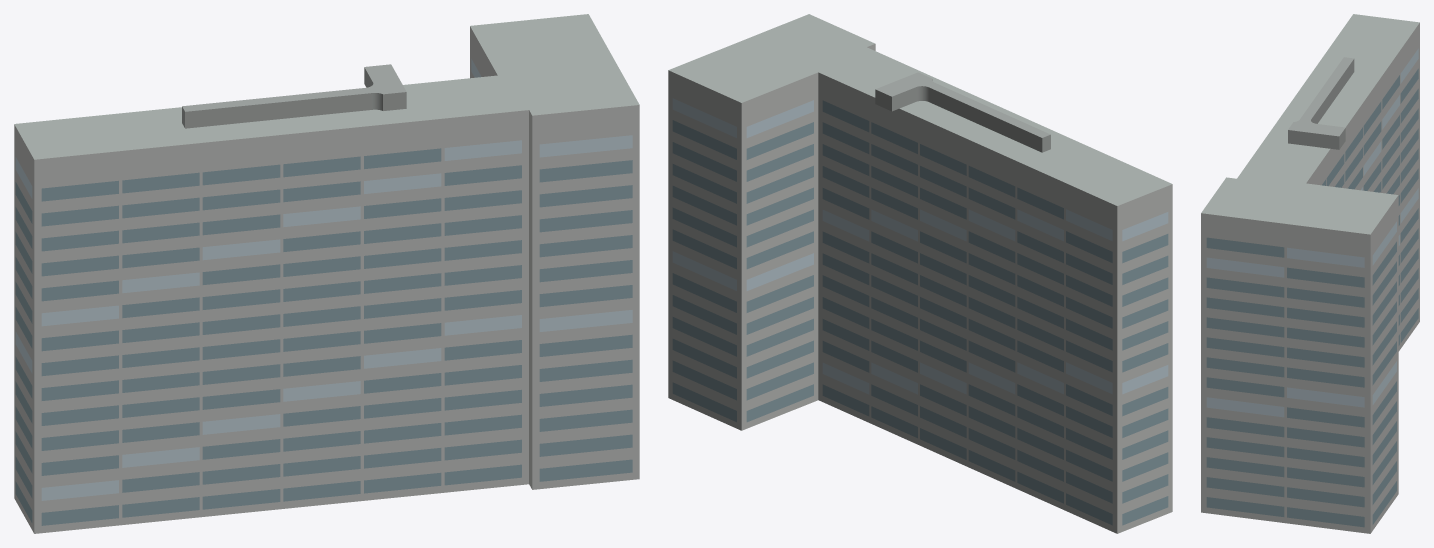
The model's file is fallback-olympic-park-foreon-312.glb.
3 views of the same model, side by side, from view 1: azimuth 30°, elevation 25°; view 2: azimuth 150°, elevation 25°; view 3: azimuth 270°, elevation 25° (orthographic). The views are drawn at different scales.
Visible parts, largest first — view 1: fallback-olympic-park-foreon-312; view 2: fallback-olympic-park-foreon-312; view 3: fallback-olympic-park-foreon-312.
Boxes of the visible parts, box(x1,y1,x2,y2) form: fallback-olympic-park-foreon-312: box(14, 14, 639, 533); fallback-olympic-park-foreon-312: box(668, 14, 1172, 533); fallback-olympic-park-foreon-312: box(1201, 14, 1419, 533).
Size of the model in its own units: 72.3 by 47.81 by 30.32.
